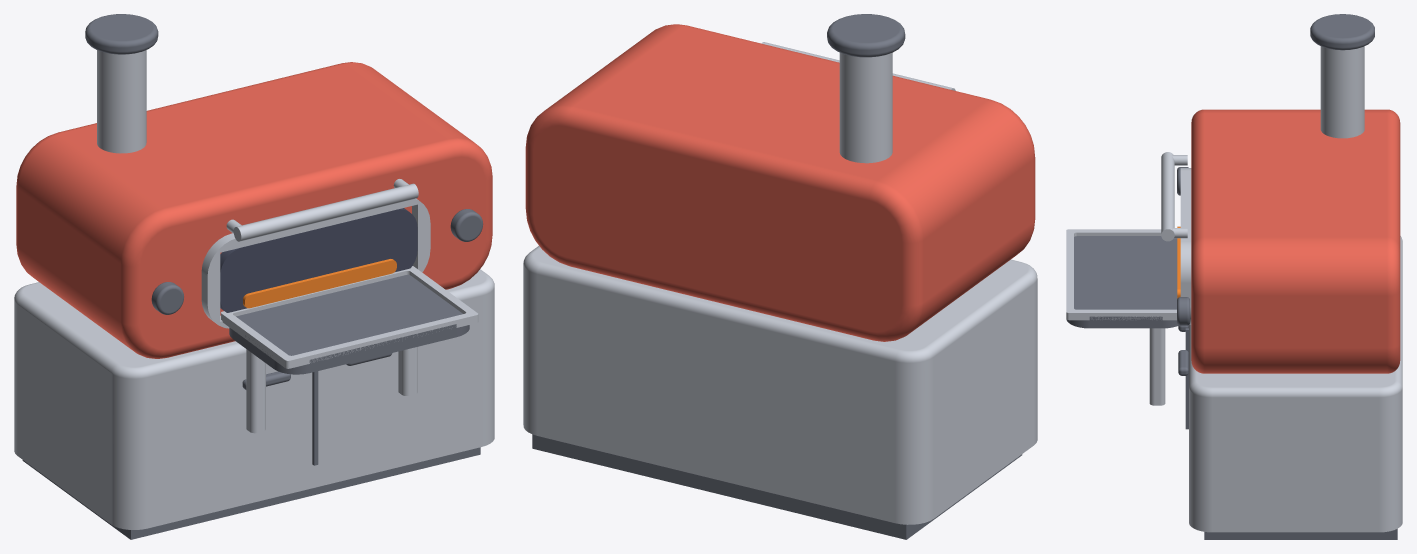
File: OvenV2.glb
3 views of the same model, side by side, from view 1: azimuth 30°, elevation 25°; view 2: azimuth 150°, elevation 25°; view 3: azimuth 270°, elevation 25° (orthographic). The views are drawn at different scales.
Visible parts, largest first — view 1: metalLight (×7), ovenShell, metalDark (×6), screenDark, ovenGlow; view 2: ovenShell, metalLight (×2), metalDark (×2); view 3: ovenShell, metalLight (×6), metalDark (×3).
Part boxes in pixels (box(x1,y1,x2,y2)): metalLight (×7): box(14, 50, 494, 529); ovenShell: box(16, 62, 492, 358); metalDark (×6): box(22, 14, 483, 539); screenDark: box(220, 208, 417, 312); ovenGlow: box(243, 259, 396, 308); ovenShell: box(525, 24, 1035, 341); metalLight (×2): box(523, 52, 1037, 524); metalDark (×2): box(532, 14, 1022, 539); ovenShell: box(1191, 109, 1400, 373); metalLight (×6): box(1066, 46, 1402, 532); metalDark (×3): box(1066, 14, 1397, 539).
Bounding box in the file's own units: 1.5 × 1.65 × 1.29.
